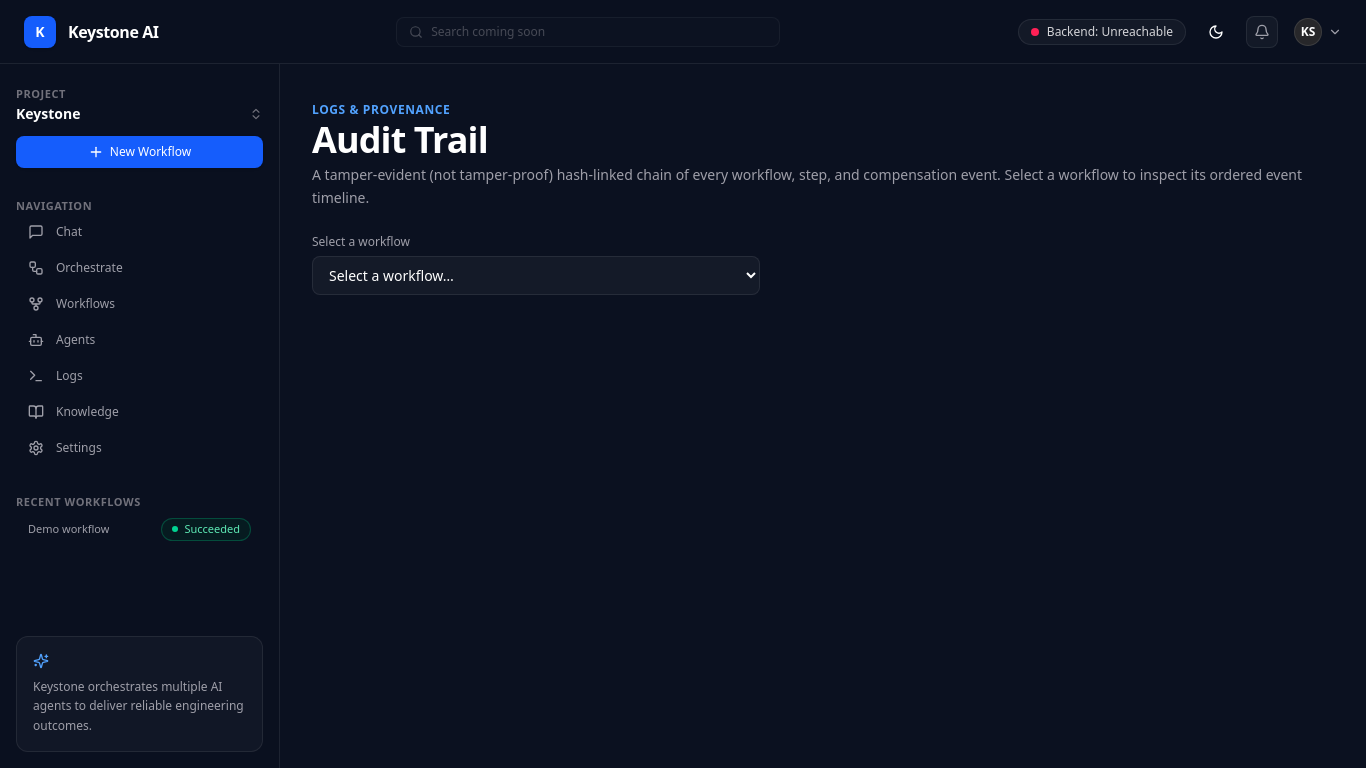
Test case: LogsPage › shows the invalid audit-chain state with the first invalid sequence
The width and height of the screenshot is (1366, 768).
Step 1. Select "Demo workflow (succeeded)" in the dropdown labelled "Select a workflow" → [536, 275], box [312,256,760,294]
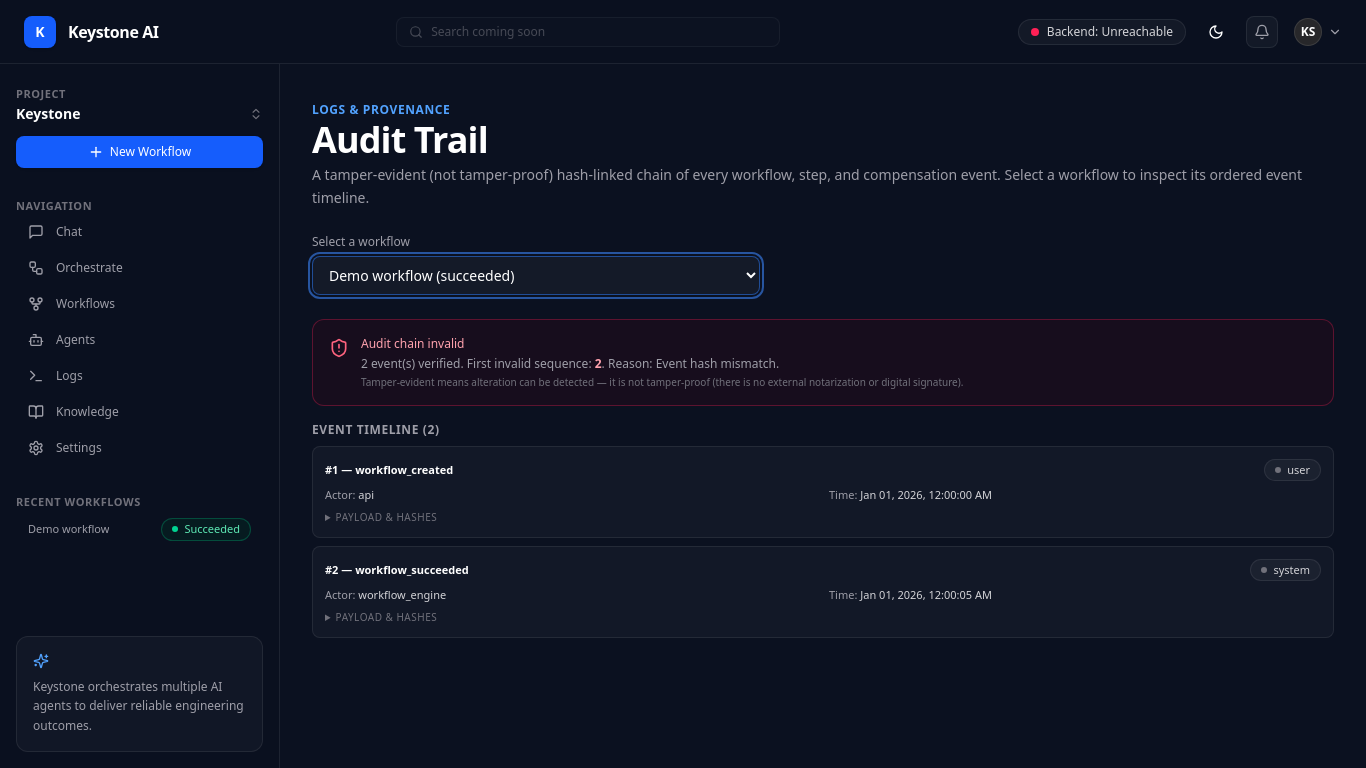
Expected: the text "Audit chain invalid" is shown, [361,334,464,352]
Expected: the text "First invalid sequence:" shows "First invalid sequence: 2", [361,354,779,372]
